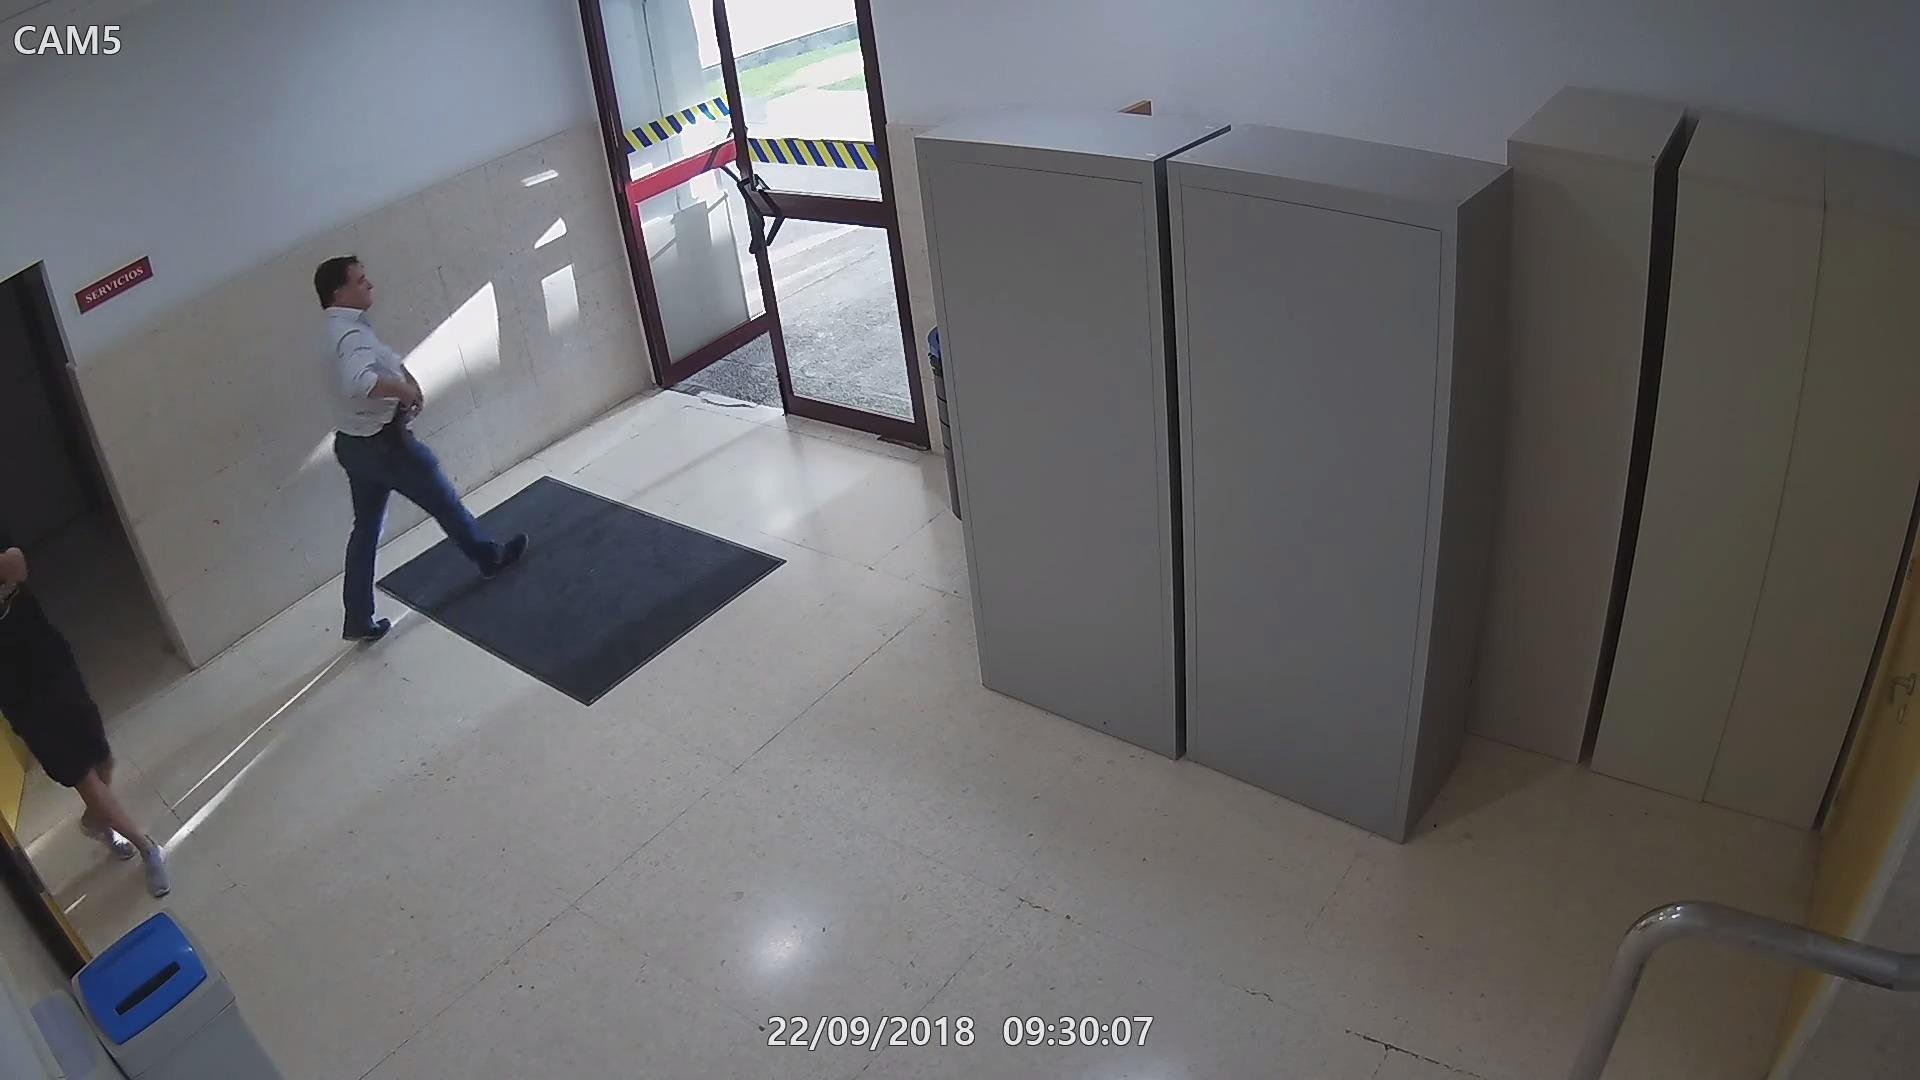Handgun: (394, 382, 422, 433)
